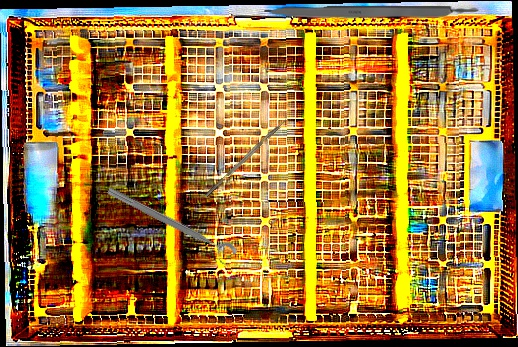Chopper: (201, 111, 292, 198)
Fixation Ring: (101, 183, 239, 269)
Scalpel Handle: (264, 6, 479, 20)
